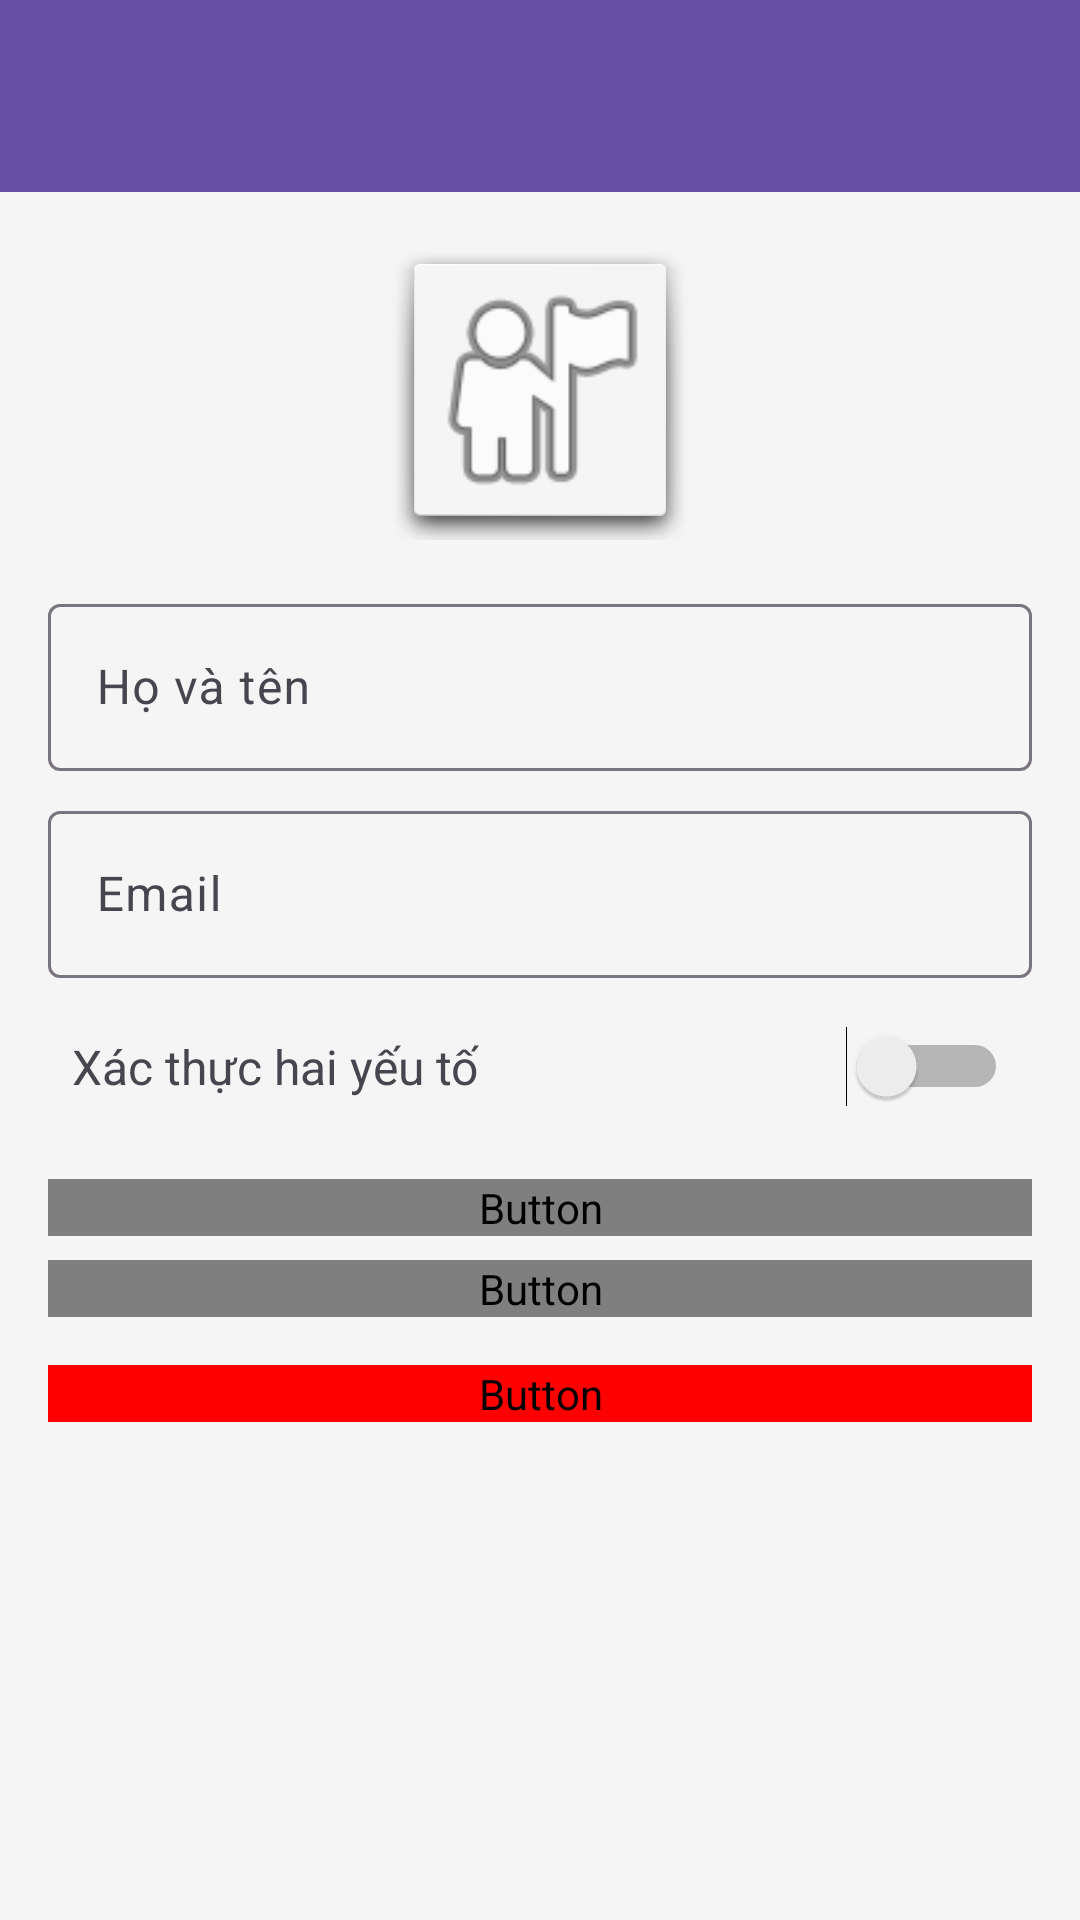

Locate icon controls on the screen. Image size 1080px x 1920px, boxes as (x1, y1, x2, y2).
Profile Picture: (402, 260, 678, 536)
